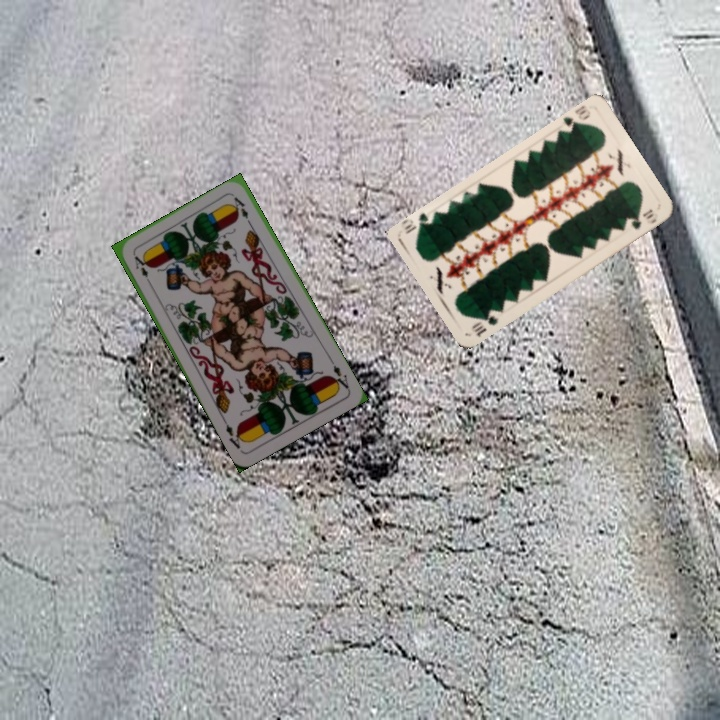EA: (129, 250, 154, 288), (327, 361, 351, 393)
G10: (468, 306, 501, 339), (559, 103, 593, 135)
